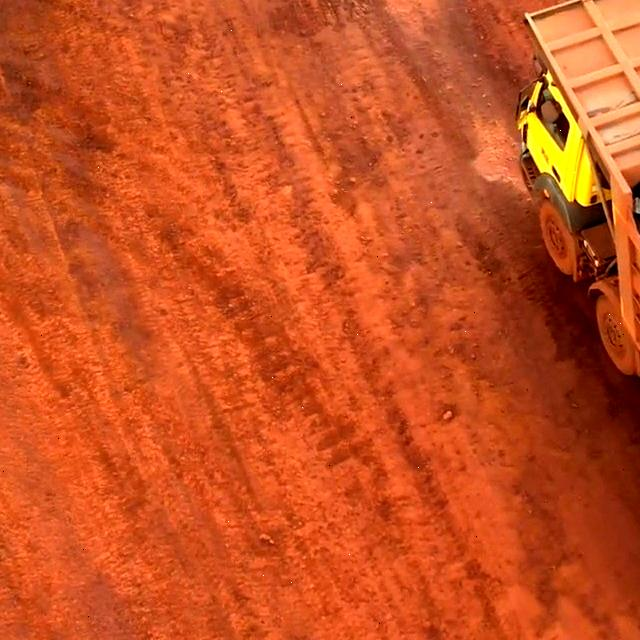Dumper truck: (532, 19, 640, 291)
